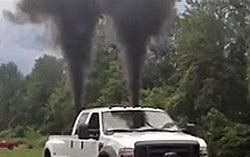smoke: (20, 1, 97, 105), (102, 1, 175, 103)
